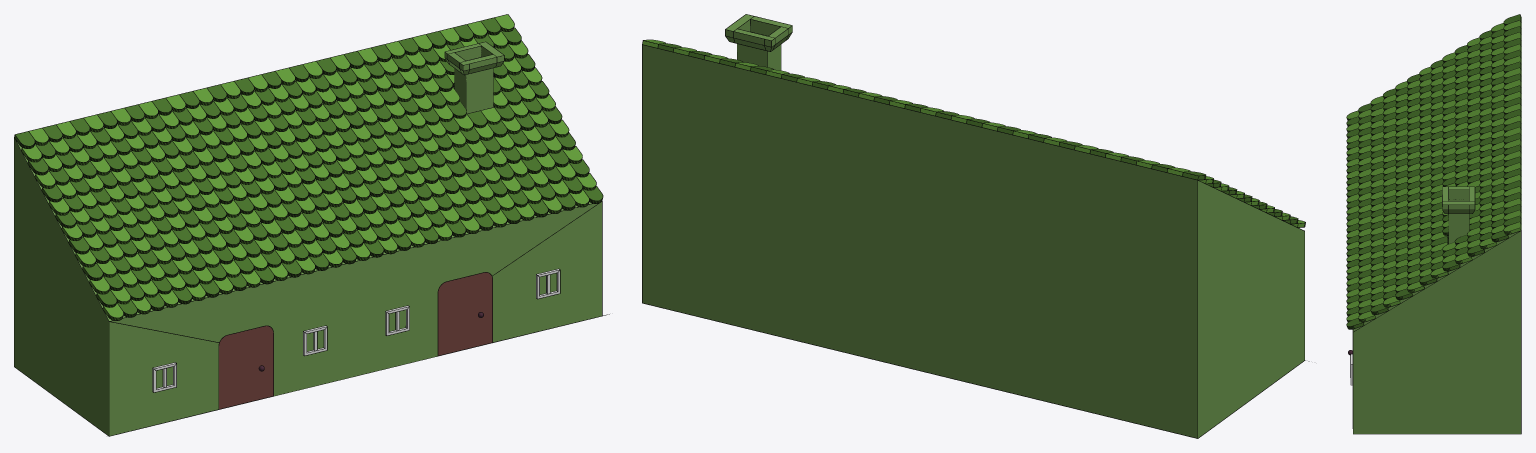
3 views of the same model, side by side, from view 1: azimuth 30°, elevation 25°; view 2: azimuth 150°, elevation 25°; view 3: azimuth 270°, elevation 25° (orthographic). The views are drawn at different scales.
Parts seen in each view (by area): view 1: Bricks, House.004, Door.006, Door.005, Chimney.004; view 2: House.004, Bricks, Chimney.004; view 3: Bricks, House.004, Chimney.004.
Part boxes in pixels (left/top/right/bottom): Bricks: left=14, top=14, right=603, bottom=320; House.004: left=14, top=30, right=609, bottom=436; Door.006: left=218, top=325, right=273, bottom=409; Door.005: left=438, top=272, right=492, bottom=355; Chimney.004: left=444, top=41, right=504, bottom=113; House.004: left=642, top=44, right=1309, bottom=438; Bricks: left=642, top=39, right=1305, bottom=227; Chimney.004: left=725, top=14, right=792, bottom=70; Bricks: left=1346, top=14, right=1521, bottom=329; House.004: left=1352, top=231, right=1521, bottom=434; Chimney.004: left=1442, top=186, right=1475, bottom=243.
Bounding box in the file's own units: 18.85 × 8.23 × 6.24.
